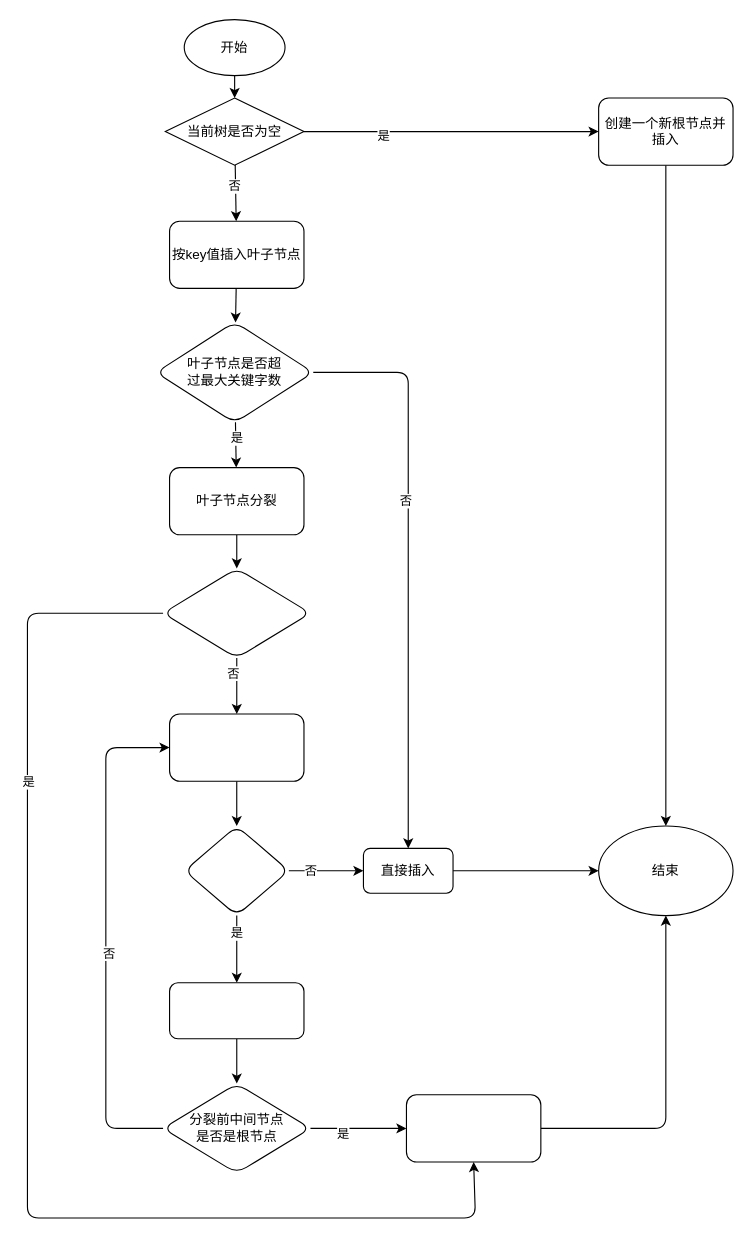
This 753x1247 diagram has some shape labels left out. The centre of each missing label's shape, as x and y in pixels:
"先分裂中间节点 再插入" belongs at (x=236, y=1010).
"分裂前叶子节点 是否是根节点" belongs at (x=236, y=612).
"创建新的根节点并将分裂后两个节点设置为其孩子" belongs at (x=473, y=1128).
"将新创建节点插入到其父亲" belongs at (x=236, y=747).
"父亲是否已满" belongs at (x=236, y=870).
